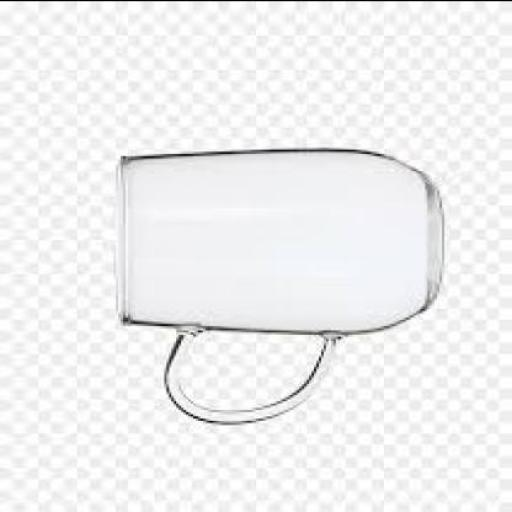glass: (113, 146, 442, 421)
